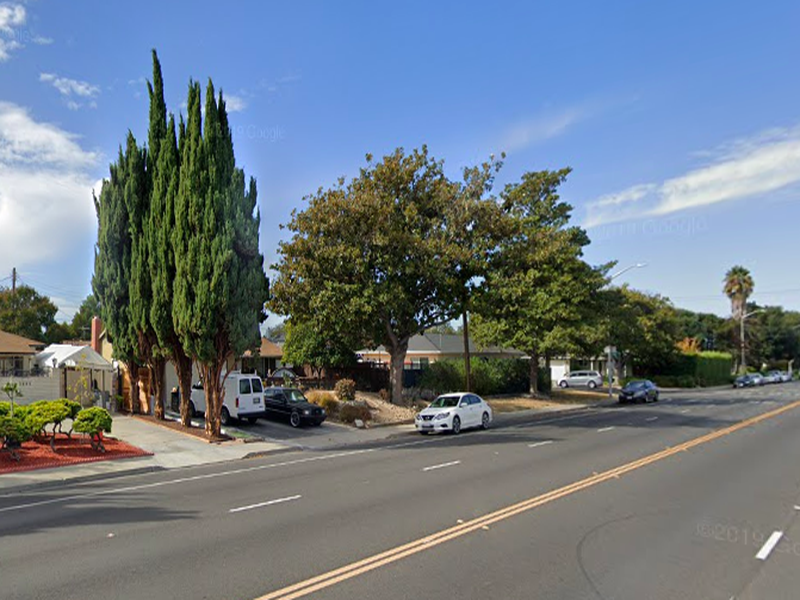tree: (268, 146, 479, 405), (467, 167, 617, 400), (173, 80, 266, 448), (432, 152, 505, 393), (146, 112, 199, 427), (127, 49, 171, 419), (92, 128, 145, 415)
